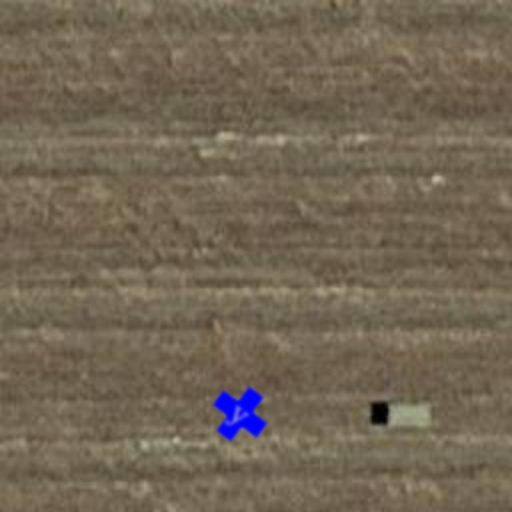cross: (200, 374, 280, 454)
